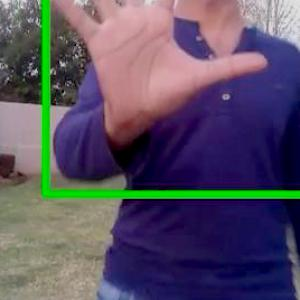follow_hand: (41, 0, 270, 135)
